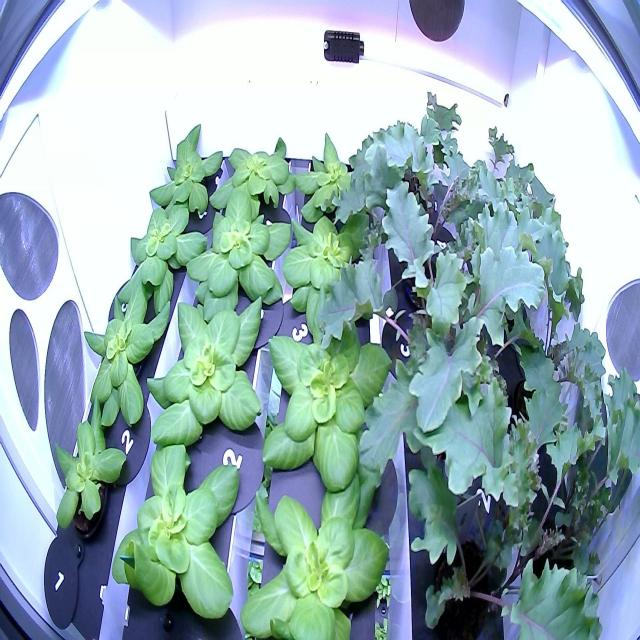young: (256, 304, 404, 510), (234, 454, 394, 639), (106, 433, 248, 631), (142, 274, 278, 469), (174, 187, 298, 328), (279, 200, 386, 344), (81, 275, 177, 434), (49, 389, 139, 548), (117, 193, 210, 324), (201, 120, 300, 236), (289, 128, 381, 235), (145, 110, 227, 224)
